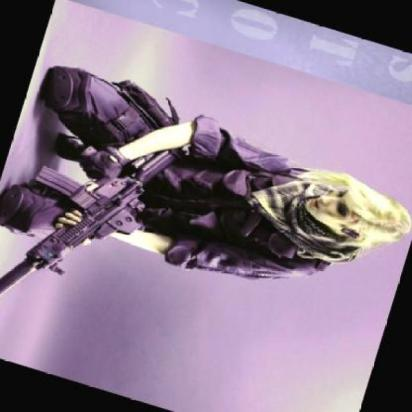Gun: (0, 103, 186, 340)
